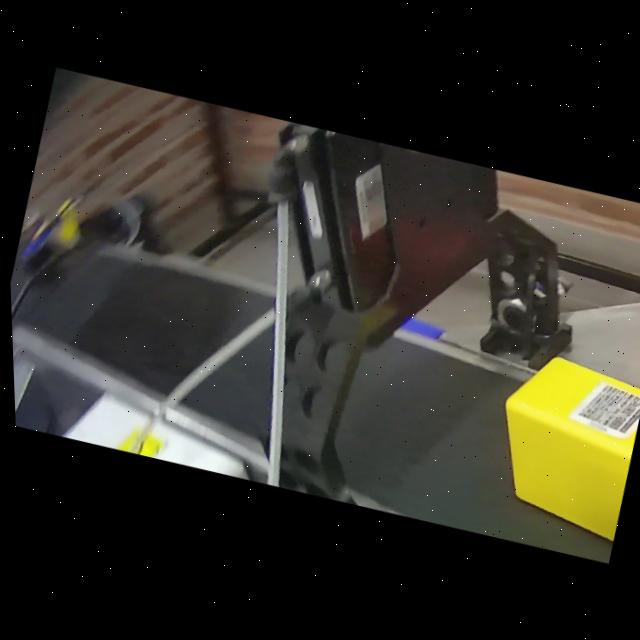greenBox: (386, 505, 605, 567)
redBox: (613, 260, 640, 436)
yellowBox: (471, 347, 640, 558)
